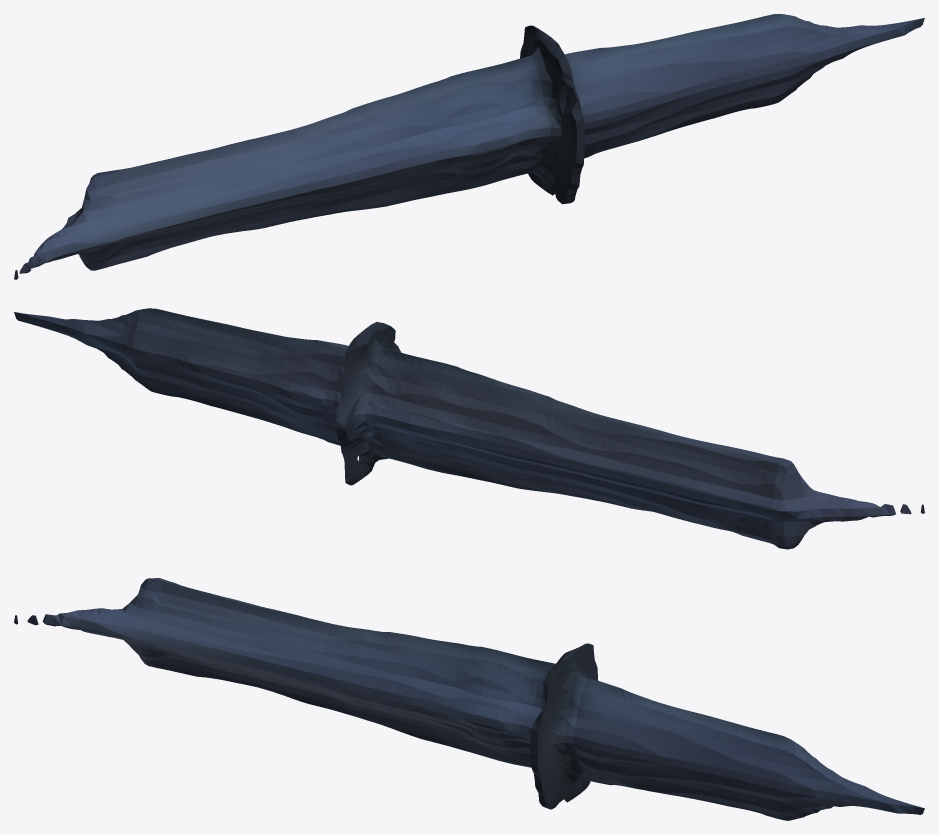
File: Sword_1749668250.obj
The picture shows the model from 3 angles, top to bottom: view 1: azimuth 30°, elevation 25°; view 2: azimuth 150°, elevation 25°; view 3: azimuth 330°, elevation 25°; orthographic projection. The views are drawn at different scales.
Bounding box in the file's own units: 1.87 × 0.2995 × 0.2422.
